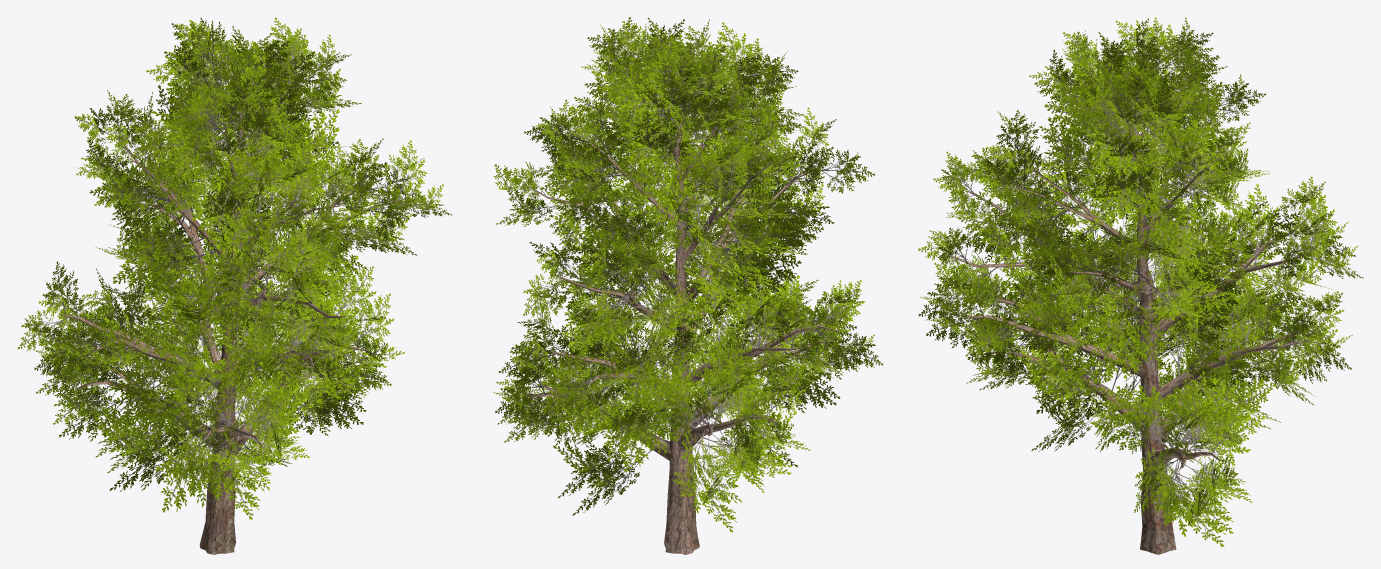
Rendered from tree_oak_1.fbx.
3 views of the same model, side by side, from view 1: azimuth 30°, elevation 25°; view 2: azimuth 150°, elevation 25°; view 3: azimuth 270°, elevation 25° (orthographic). The views are drawn at different scales.
Parts seen in each view (by area): view 1: Tree_1, Tree_0; view 2: Tree_1, Tree_0; view 3: Tree_1, Tree_0.
Boxes of the visible parts, x1,y1,x2,y2 form: Tree_1: [17, 17, 451, 519]; Tree_0: [58, 60, 405, 554]; Tree_1: [493, 17, 882, 532]; Tree_0: [523, 69, 839, 554]; Tree_1: [918, 17, 1363, 546]; Tree_0: [945, 58, 1321, 554].
Bounding box in the file's own units: 293 × 398 × 308.
2 materials, 2 textured.
